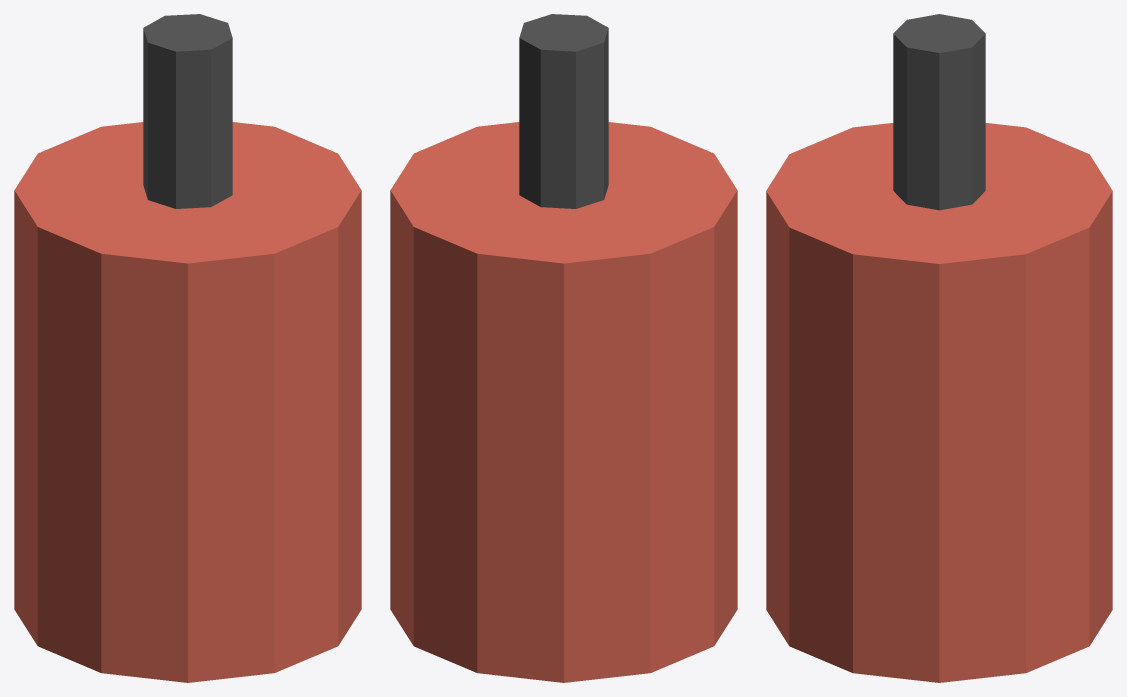
Rendered from buoy.glb.
The picture shows the model from 3 angles, left to right: view 1: azimuth 30°, elevation 25°; view 2: azimuth 150°, elevation 25°; view 3: azimuth 270°, elevation 25°; orthographic projection.
Visible parts, largest first — view 1: buoy, buoy_top; view 2: buoy, buoy_top; view 3: buoy, buoy_top.
Part boxes in pixels (x1,y1,x2,y2): buoy: (14, 122, 361, 682); buoy_top: (143, 14, 232, 208); buoy: (390, 122, 737, 682); buoy_top: (519, 14, 608, 208); buoy: (766, 123, 1112, 682); buoy_top: (893, 14, 985, 210).
Bounding box in the file's own units: 0.5996 × 1.1 × 0.5996.
